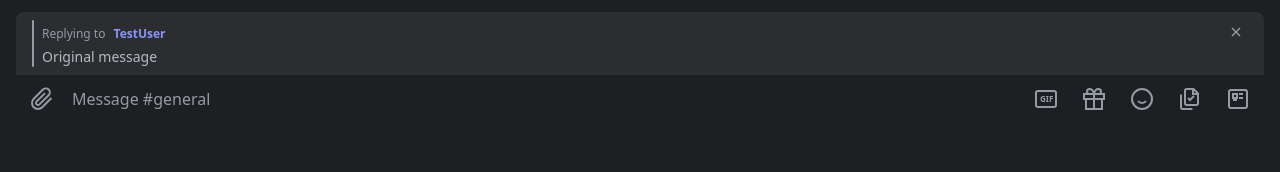
Test: MessageInput › should clear reply when close button is clicked
The image size is (1280, 172).
Click the button with class "close-reply-btn": (1236,32) [1224, 20, 1248, 44]
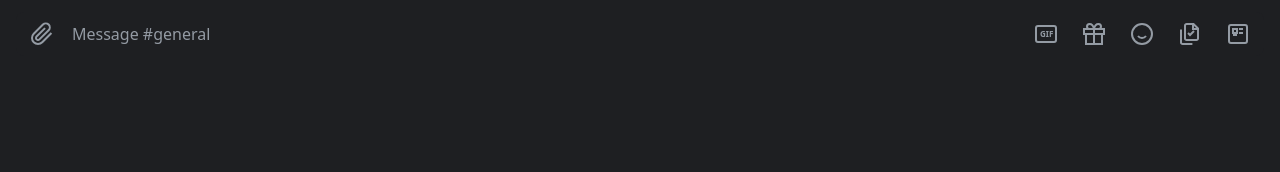
Expected: the text "Replying to" is gone
